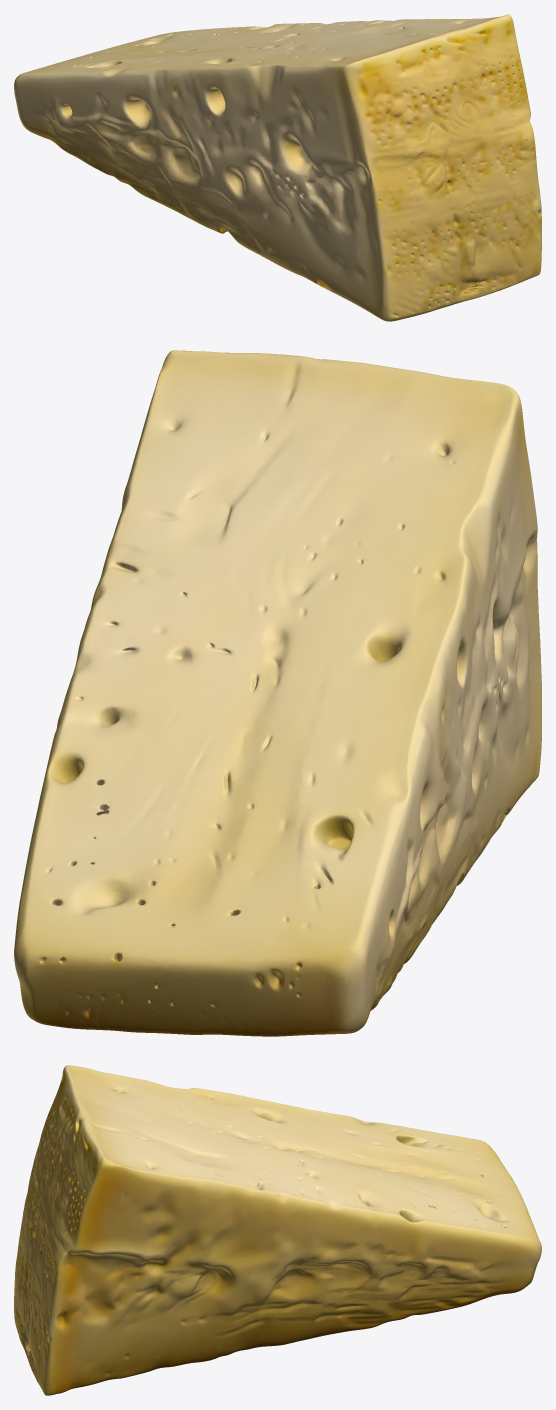
The model's file is Cheese.fbx.
3 views of the same model, one above another, from view 1: azimuth 30°, elevation 25°; view 2: azimuth 150°, elevation 25°; view 3: azimuth 270°, elevation 25° (orthographic). The views are drawn at different scales.
Visible parts, largest first — view 1: tripo_node_e1d3484f; view 2: tripo_node_e1d3484f; view 3: tripo_node_e1d3484f.
Boxes of the visible parts, x1,y1,x2,y2 form: tripo_node_e1d3484f: (14,14,541,321); tripo_node_e1d3484f: (14,350,541,1036); tripo_node_e1d3484f: (14,1065,541,1395).
Size of the model in its own units: 65.86 by 97.9 by 50.37.
1 material, 1 textured.
